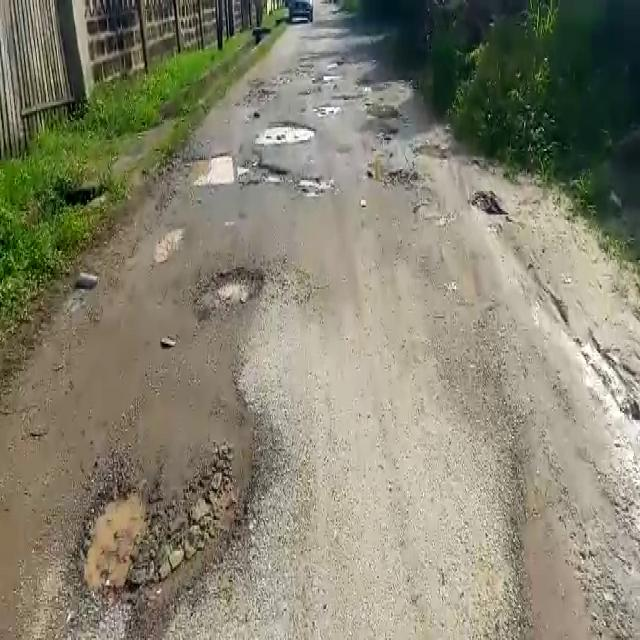Pothole: (72, 456, 273, 627), (195, 261, 270, 312), (184, 156, 291, 188), (254, 118, 319, 144), (296, 175, 332, 198)
